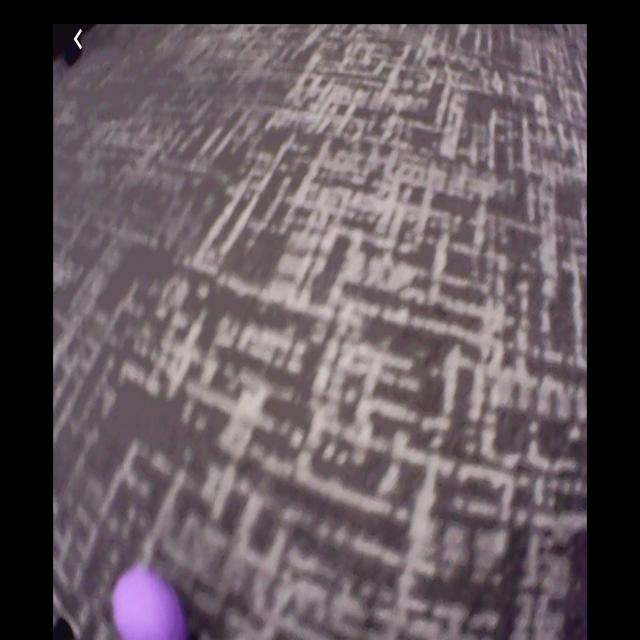ball: (112, 568, 186, 640)
